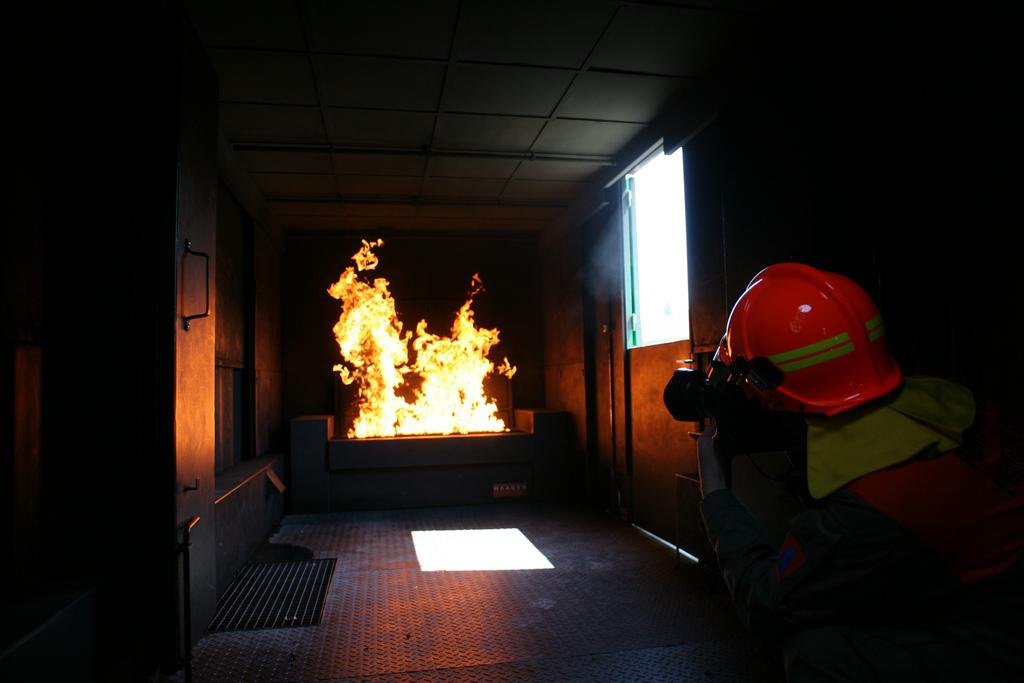fire: (372, 320, 502, 433), (332, 270, 403, 350)
